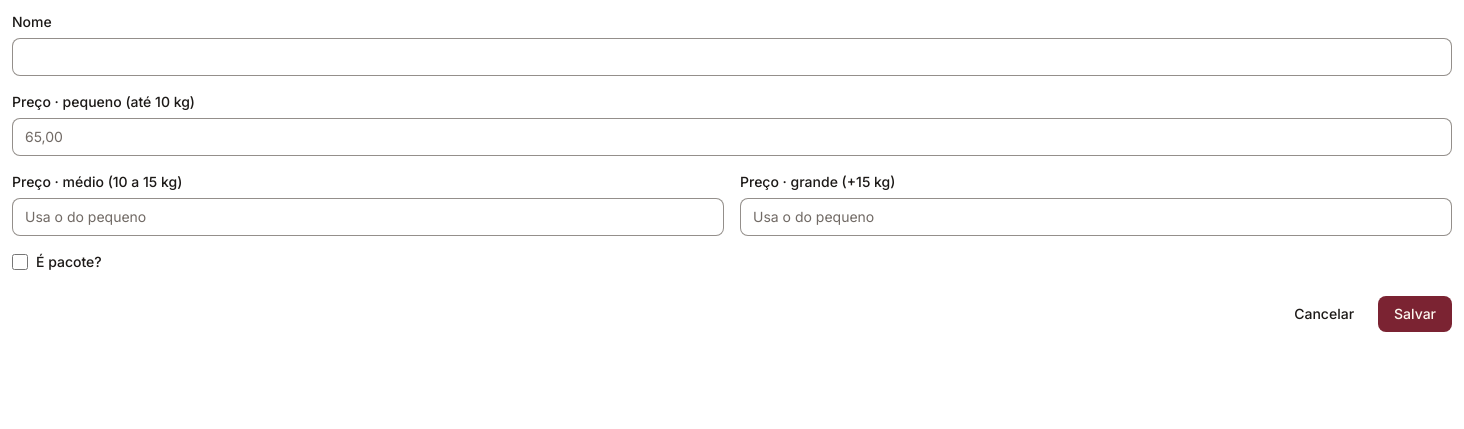
Test: ServicoForm › esconde créditos até marcar 'é pacote'
Expected: the field labelled "Créditos" is not shown
Click the checkbox labelled "É pacote?" at x=20, y=262, box 12,254 -> 28,270
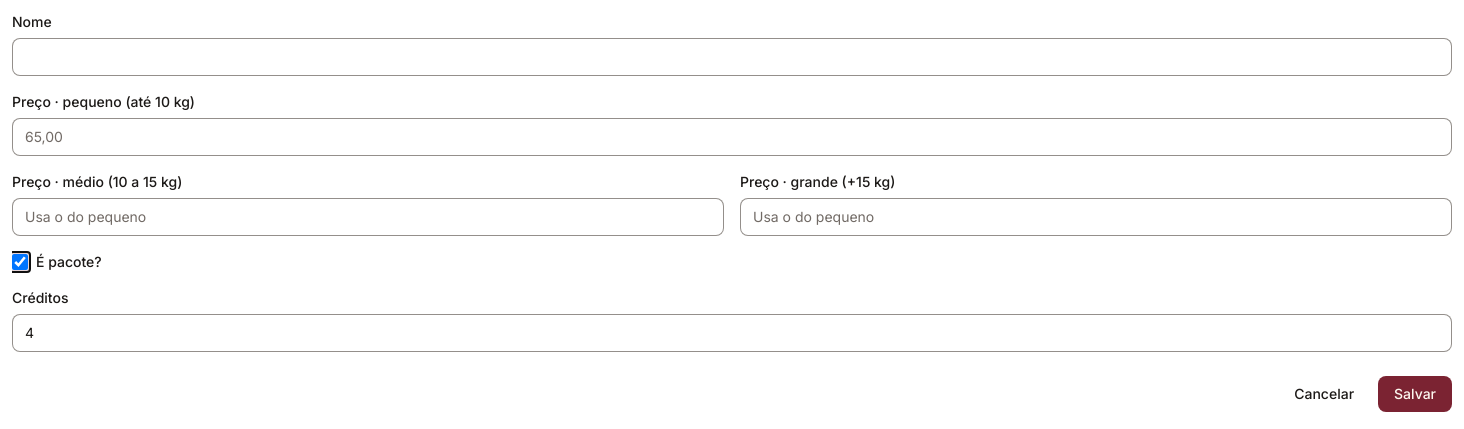
Result: the number field labelled "Créditos" is shown at 12,314 -> 1452,352
